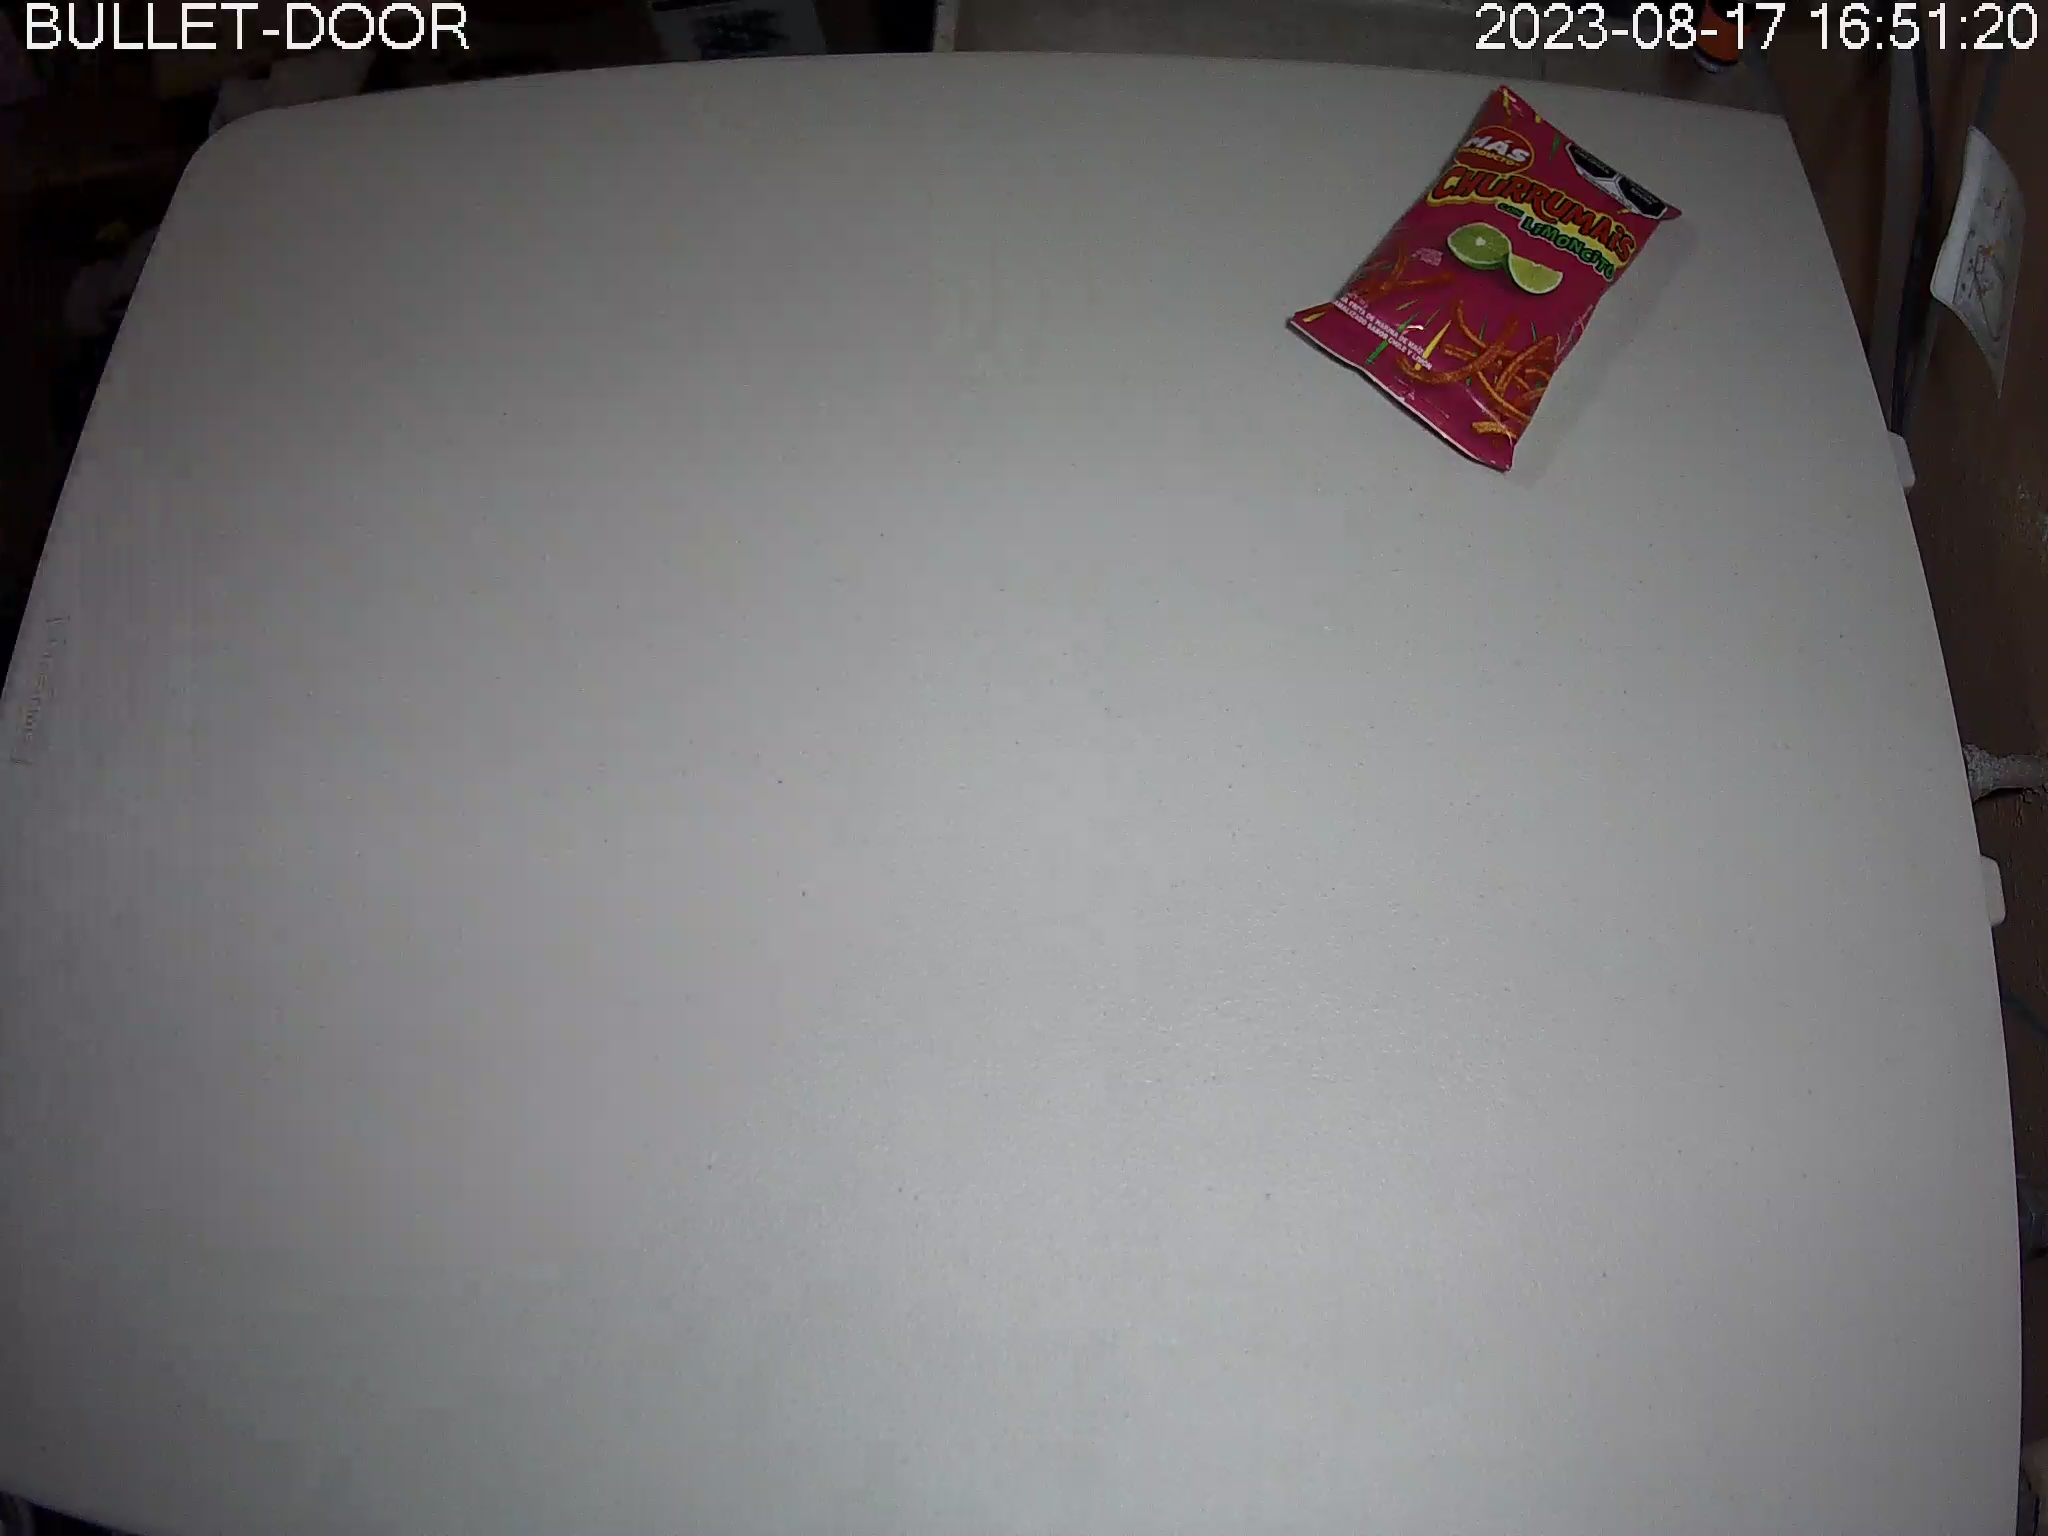Churrumais_70_F: (1290, 86, 1687, 473)
